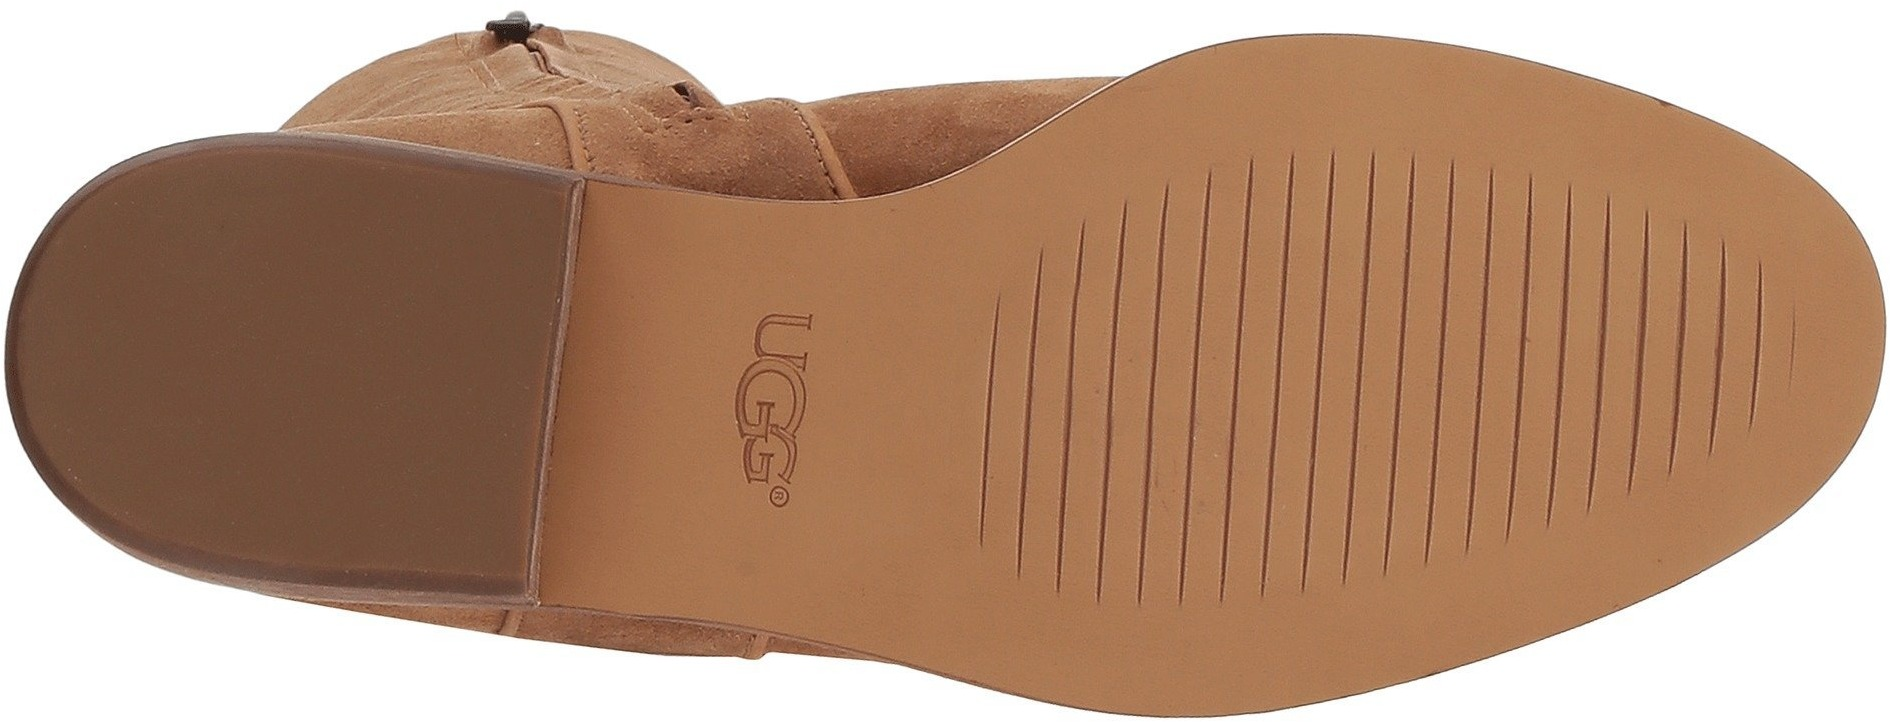exclude: (530, 140, 975, 663), (262, 603, 918, 679)
line: (1246, 163, 1549, 493), (990, 288, 1238, 534), (1565, 221, 1779, 435)
other: (290, 170, 528, 403), (57, 233, 288, 442), (292, 411, 482, 576), (1199, 55, 1327, 162)
